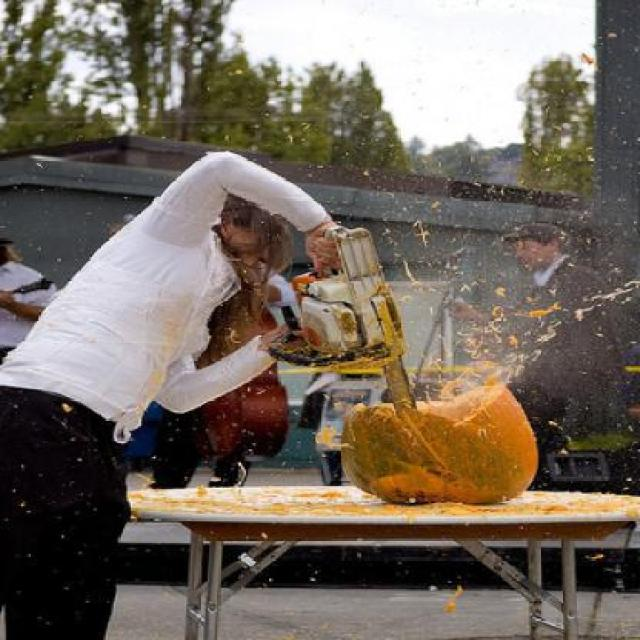Chainsaw: (244, 216, 421, 413)
